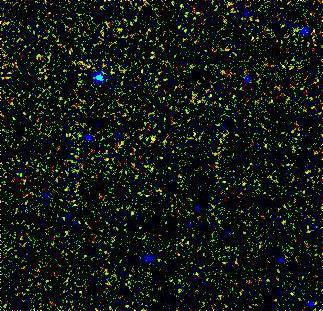star: (131, 123, 161, 153)
